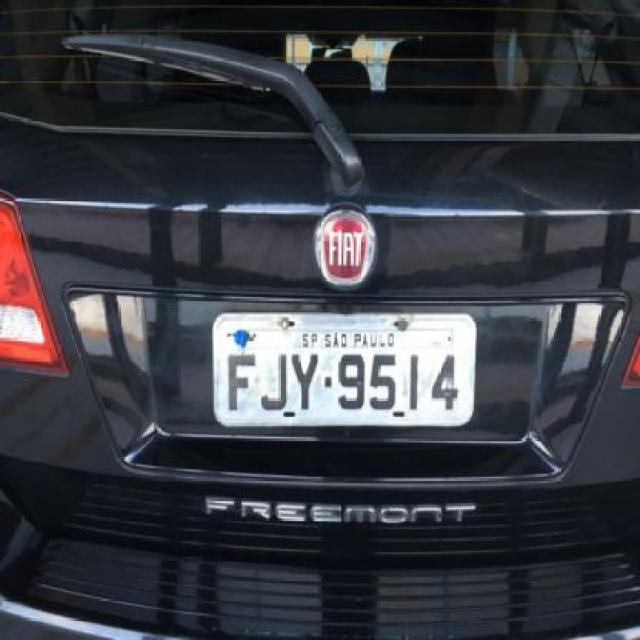old_plate: (209, 305, 482, 431)
